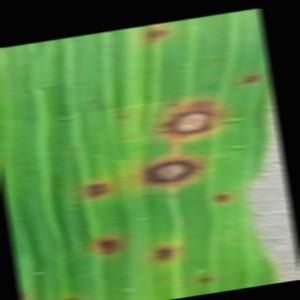Bacterial_Leaf_Blight: (134, 146, 214, 197), (151, 95, 227, 141), (88, 230, 127, 259), (82, 173, 115, 204), (149, 243, 178, 264), (141, 25, 172, 43), (210, 186, 232, 207), (233, 71, 261, 86), (81, 94, 100, 107), (198, 272, 217, 284), (162, 98, 180, 109), (115, 109, 131, 121), (58, 293, 80, 300), (67, 144, 77, 153)
